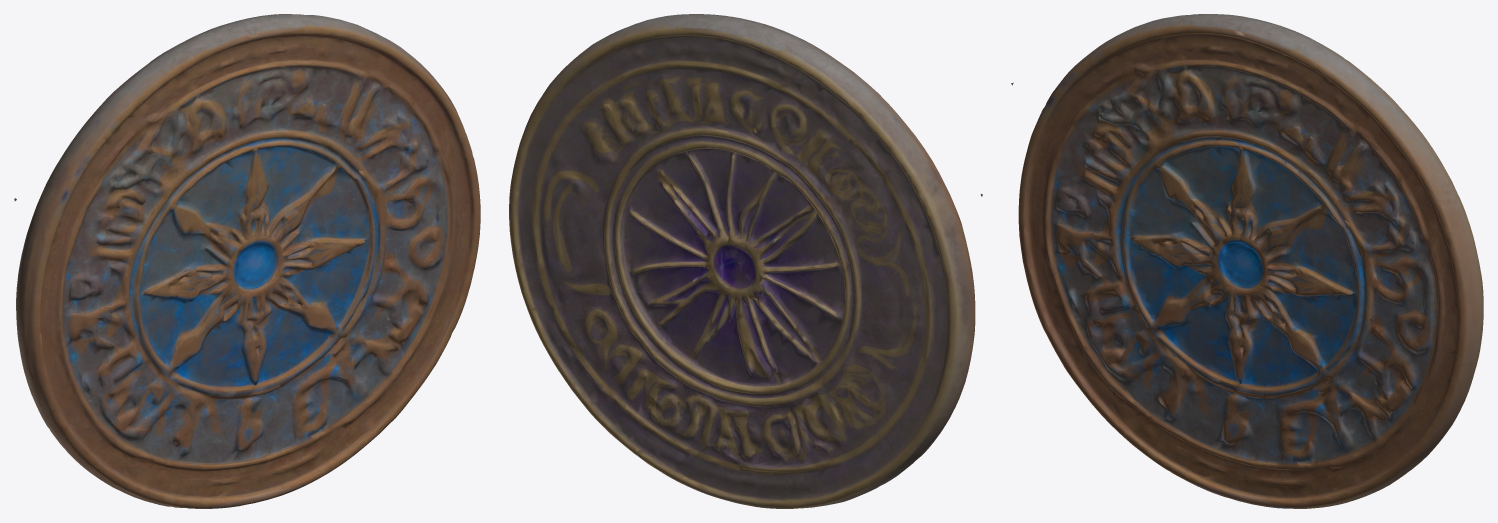
The picture shows the model from 3 angles, left to right: view 1: azimuth 30°, elevation 25°; view 2: azimuth 150°, elevation 25°; view 3: azimuth 330°, elevation 25°; orthographic projection.
Parts seen in each view (by area): view 1: file1; view 2: file1; view 3: file1.
Boxes of the visible parts, x1,y1,x2,y2 form: file1: (14,14,480,508); file1: (509,14,982,508); file1: (1011,14,1483,508).
Bounding box in the file's own units: 2.04 × 2 × 0.1624.
1 material, 1 textured.
